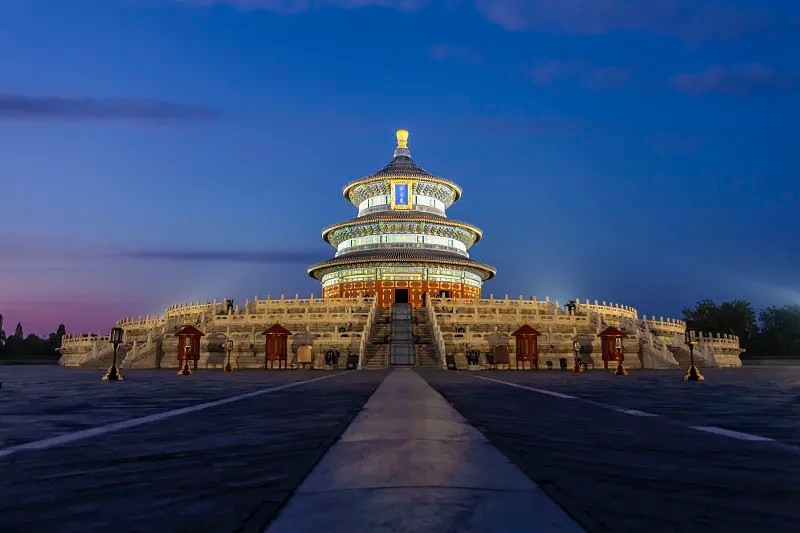Heaven: (306, 129, 497, 305)
